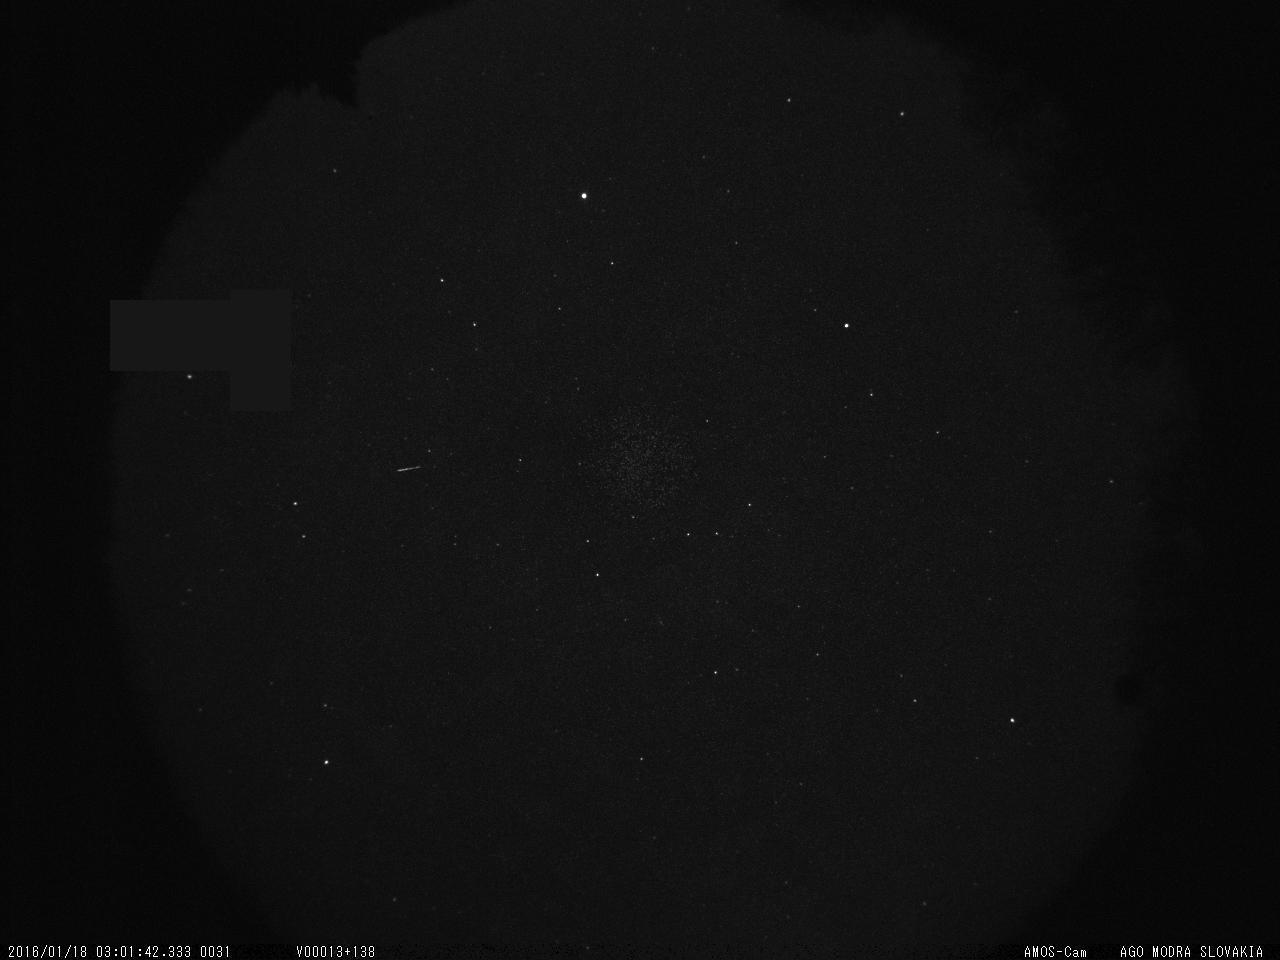meteor: (388, 460, 435, 479)
